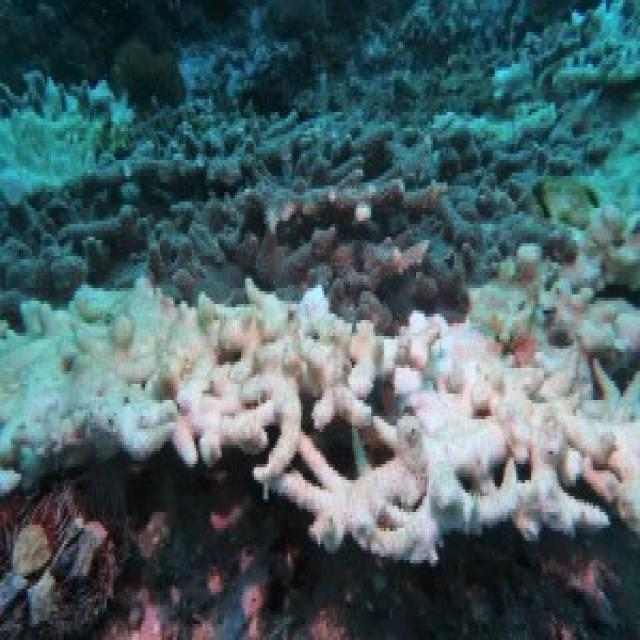Bleached: (308, 310, 640, 557), (2, 288, 368, 508), (1, 70, 139, 189)
Healthy: (144, 106, 498, 280)
